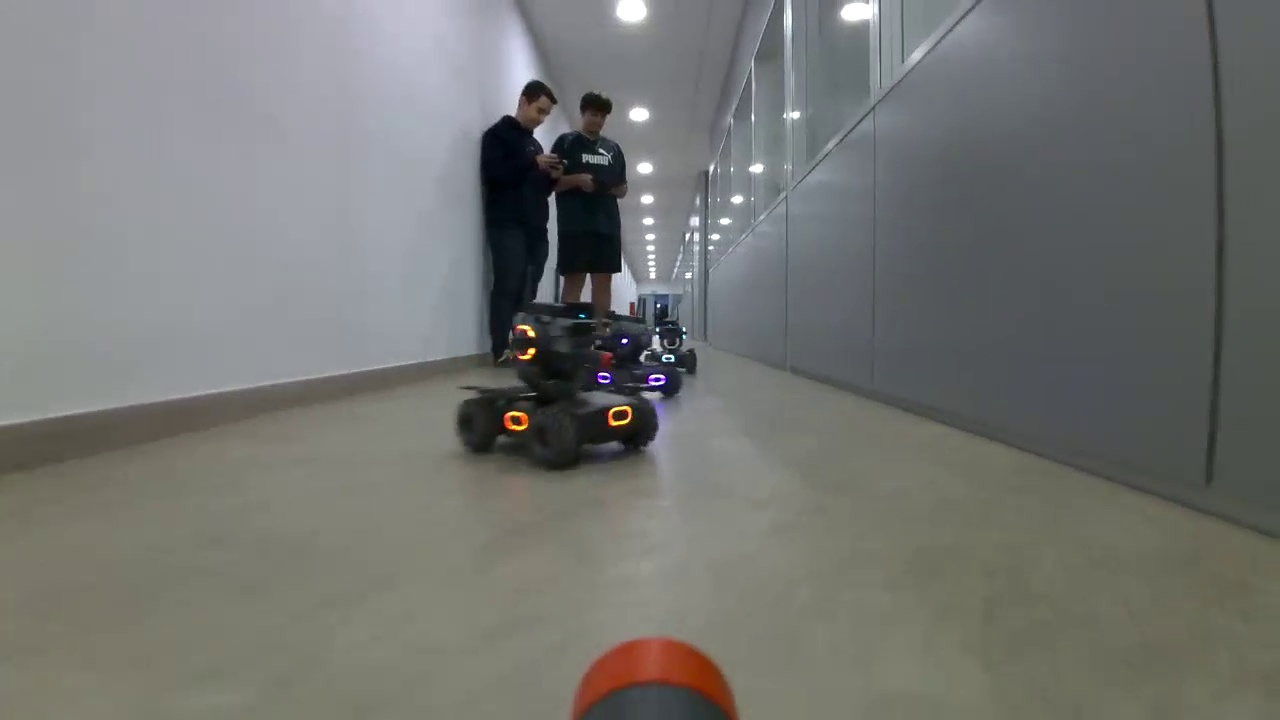robot: (455, 301, 662, 469), (593, 313, 683, 398), (645, 319, 699, 375)
